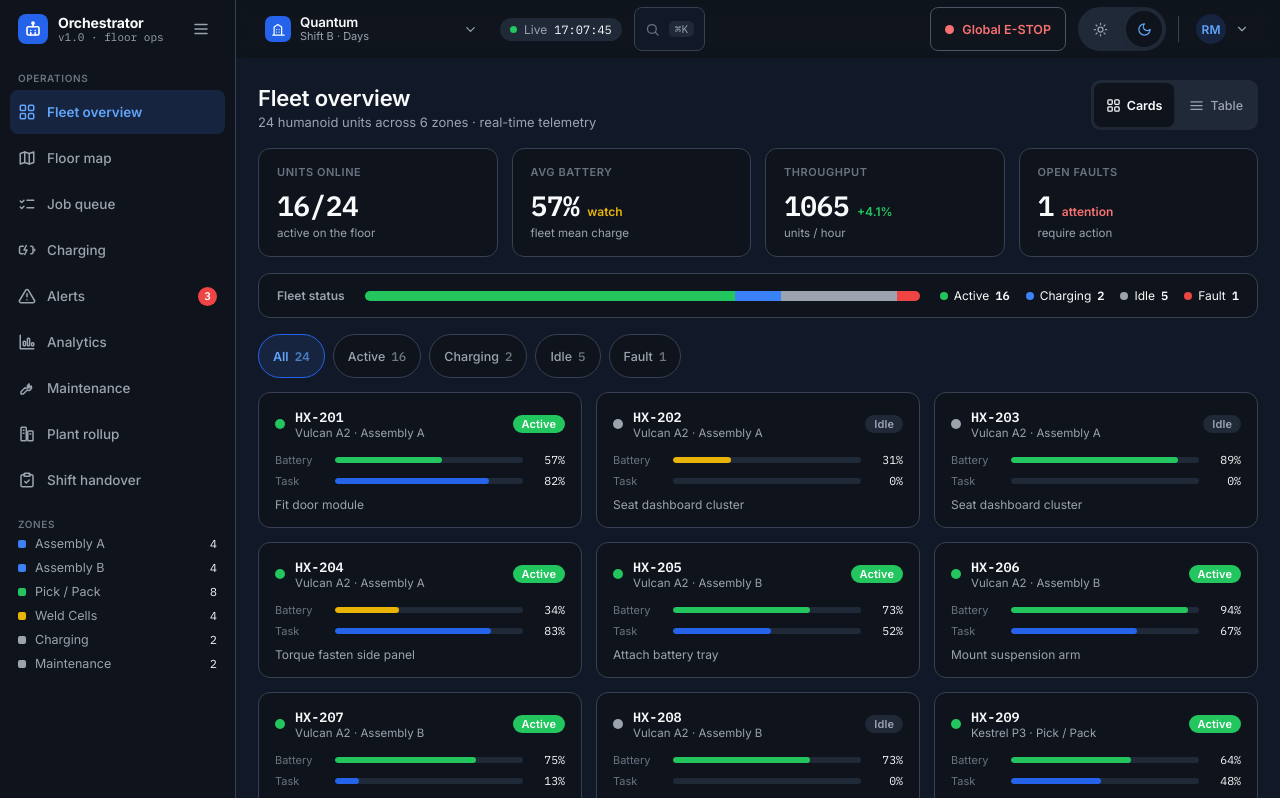
navigation › sidebar "Job queue" shows the Job queue screen
Click the button "Job queue". click: x=118, y=204
box: [10,182,225,226]
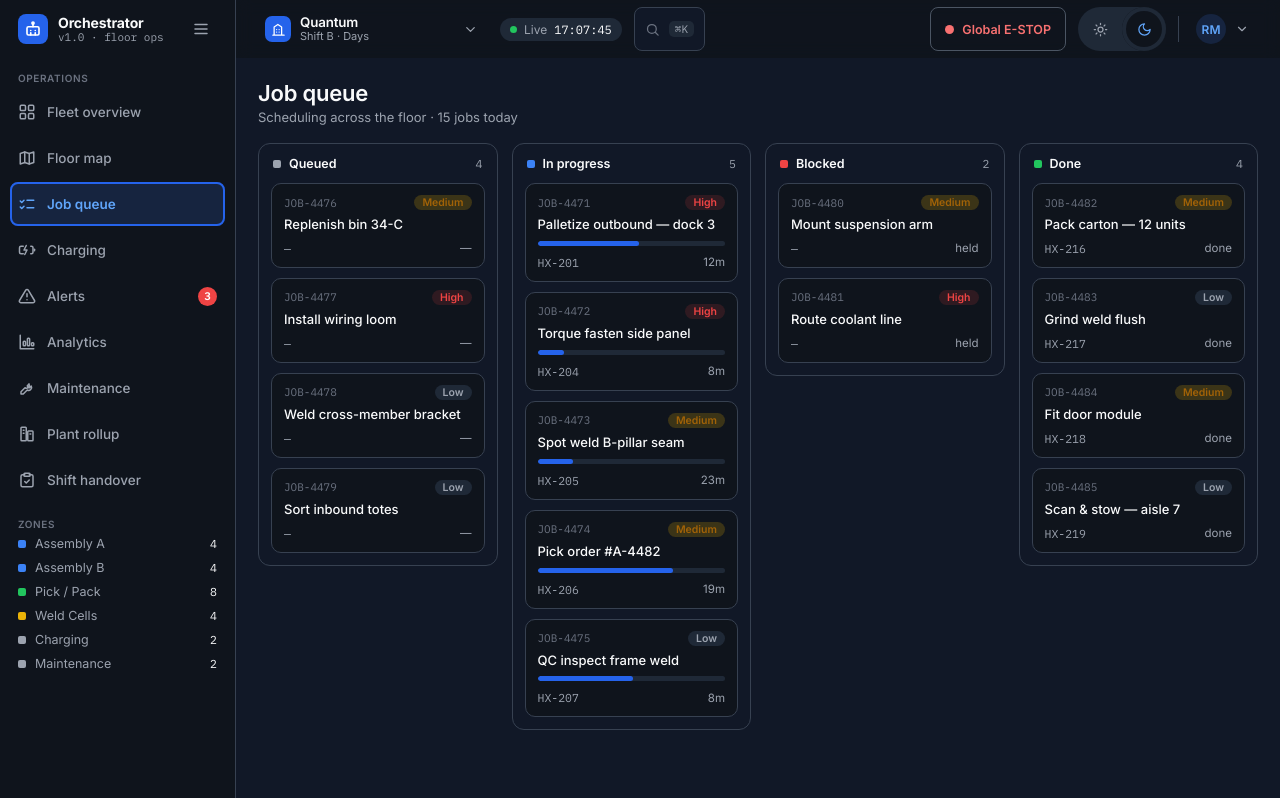
Now the heading "Job queue" is shown, box [258,80,368,106]
